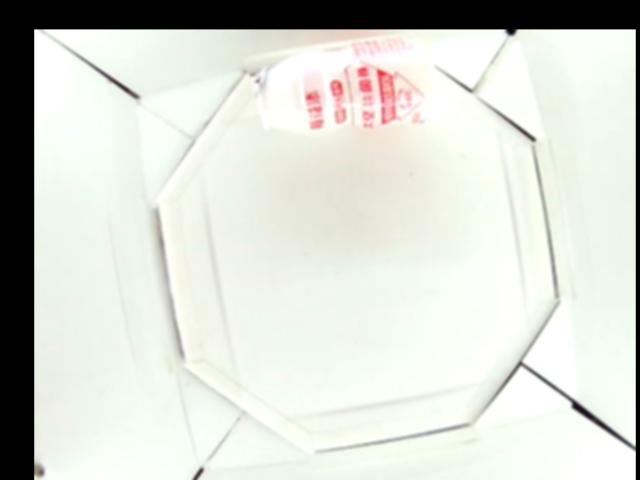Bottle: (252, 32, 434, 135)
